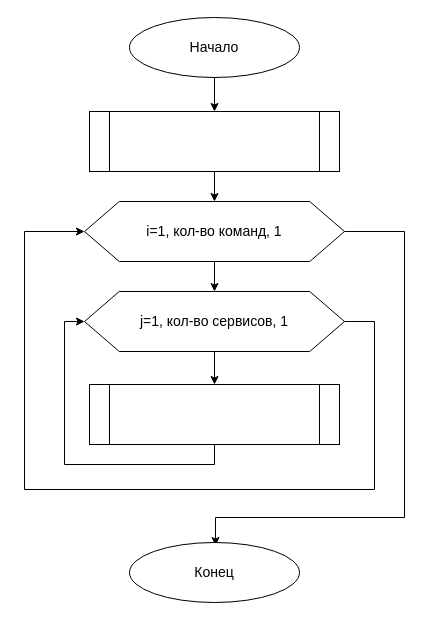
Image size: 430x620. Some labels were removed from this diagram. The shapes that lost their labels are listed below. From the top down, each one's centre as x and y in pixels, then its label:
(x=214, y=141): Получение информации из БД
(x=214, y=414): Запуск нового потока, с выполнением в нем to_service
